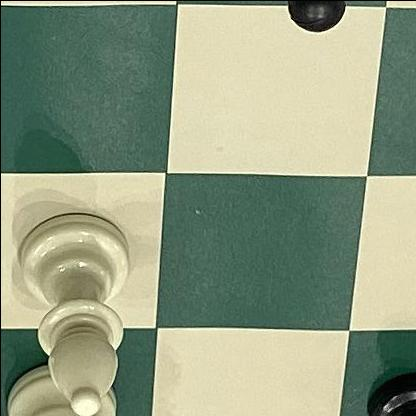black-pawn: (232, 0, 377, 47)
white-bishop: (5, 194, 155, 416)
white-rook: (0, 357, 133, 416)
